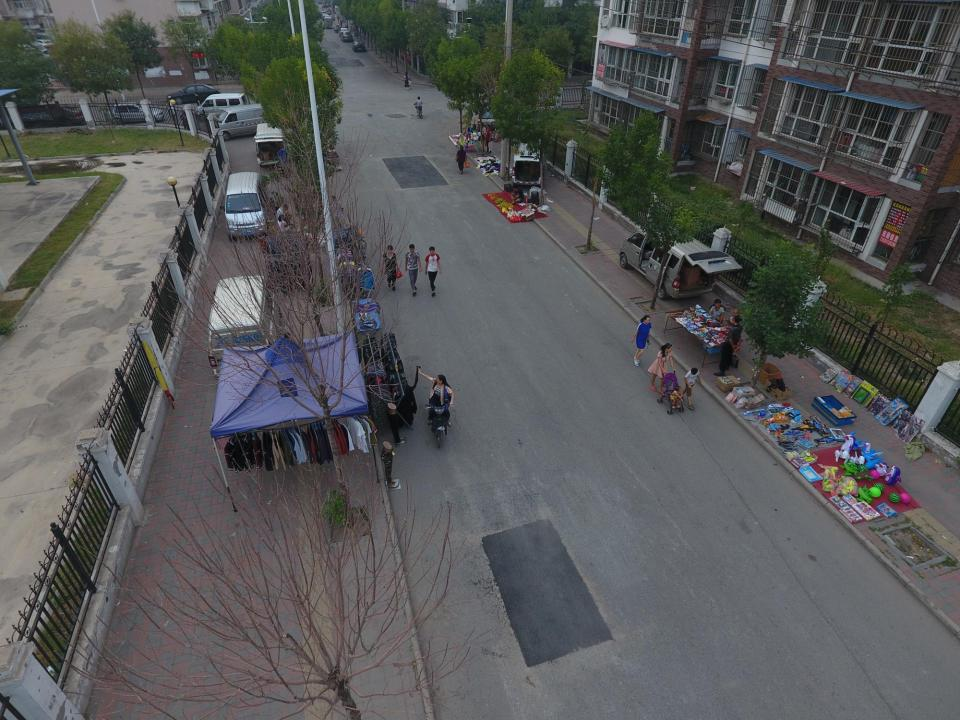bus: (324, 17, 332, 28)
car: (166, 83, 220, 104), (111, 102, 164, 123), (48, 105, 87, 124), (213, 65, 237, 74), (352, 41, 366, 52), (340, 31, 353, 42), (36, 39, 52, 46), (37, 29, 49, 37), (40, 49, 50, 58), (322, 15, 335, 21), (339, 28, 348, 36), (319, 10, 326, 15), (319, 0, 325, 3)
van: (618, 226, 742, 299), (207, 275, 272, 378), (220, 172, 268, 241), (216, 103, 276, 141), (511, 134, 548, 188), (511, 133, 547, 188), (196, 93, 249, 122), (253, 123, 287, 167), (478, 98, 499, 130)
